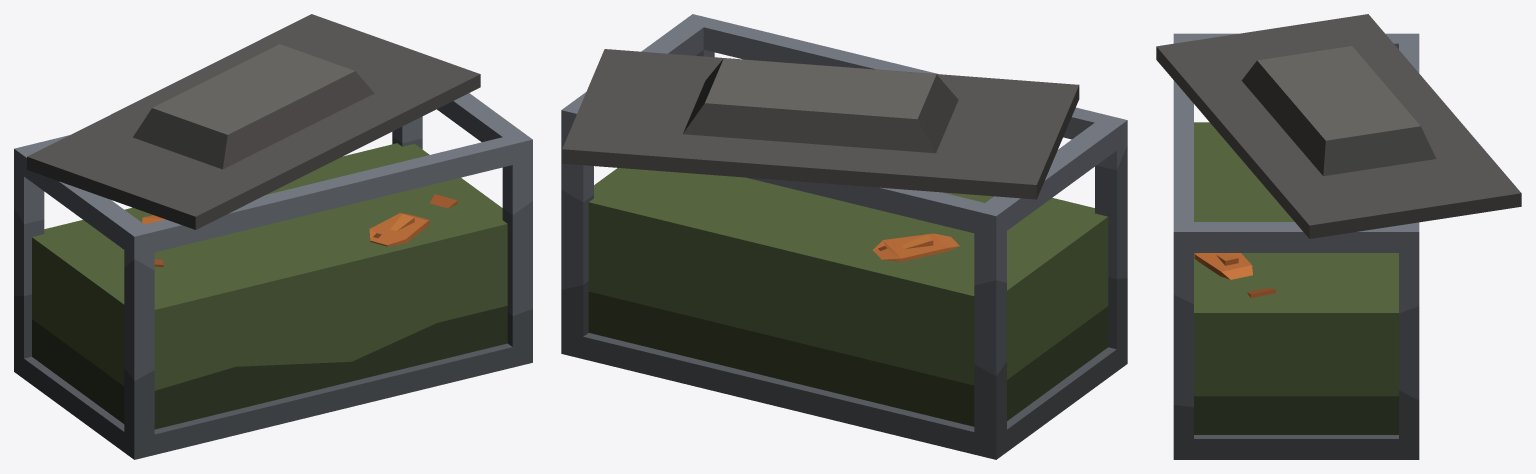
File: AI_Prop_FishTank.fbx
3 views of the same model, side by side, from view 1: azimuth 30°, elevation 25°; view 2: azimuth 150°, elevation 25°; view 3: azimuth 270°, elevation 25° (orthographic). The views are drawn at different scales.
Visible parts, largest first — view 1: AI_Prop_FishTank; view 2: AI_Prop_FishTank; view 3: AI_Prop_FishTank.
Boxes of the visible parts, left/top/right/bottom form: AI_Prop_FishTank: left=14, top=14, right=532, bottom=459; AI_Prop_FishTank: left=561, top=14, right=1127, bottom=459; AI_Prop_FishTank: left=1156, top=14, right=1521, bottom=459.
Bounding box in the file's own units: 1.6 × 0.9456 × 1.17.
